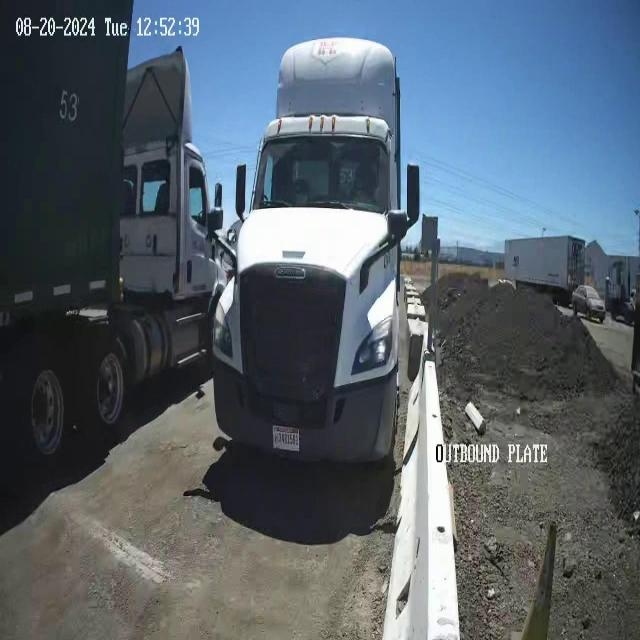TRUCK_IN: (208, 36, 420, 470)
